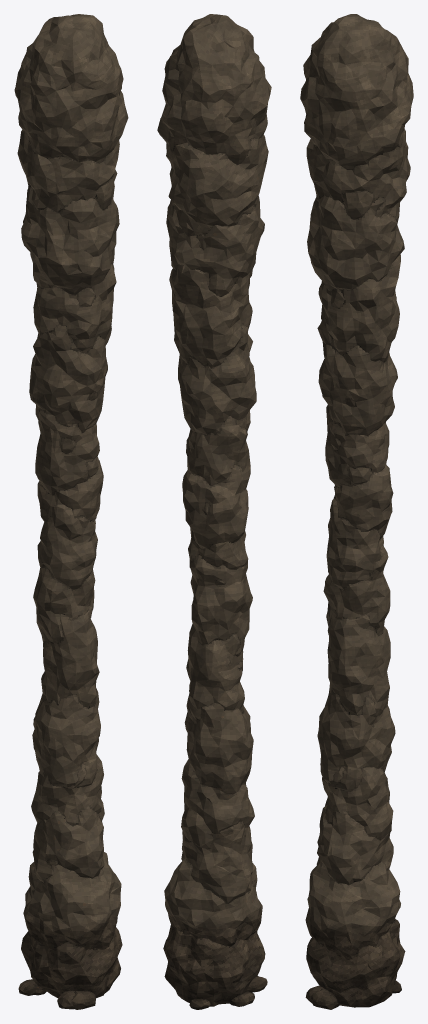
Rendered from mine_pillar_b.glb.
3 renders of one model, left to right at view 1: azimuth 30°, elevation 25°; view 2: azimuth 210°, elevation 25°; view 3: azimuth 330°, elevation 25°, orthographic.
Visible parts, largest first — view 1: mine_pillar_b; view 2: mine_pillar_b; view 3: mine_pillar_b.
Boxes of the visible parts, x1,y1,x2,y2 form: mine_pillar_b: (14, 14, 128, 1009); mine_pillar_b: (157, 14, 271, 1009); mine_pillar_b: (300, 14, 413, 1009).
Size of the model in its own units: 2.83 by 27.02 by 2.74.
Materials: 1 (1 with a texture image).
